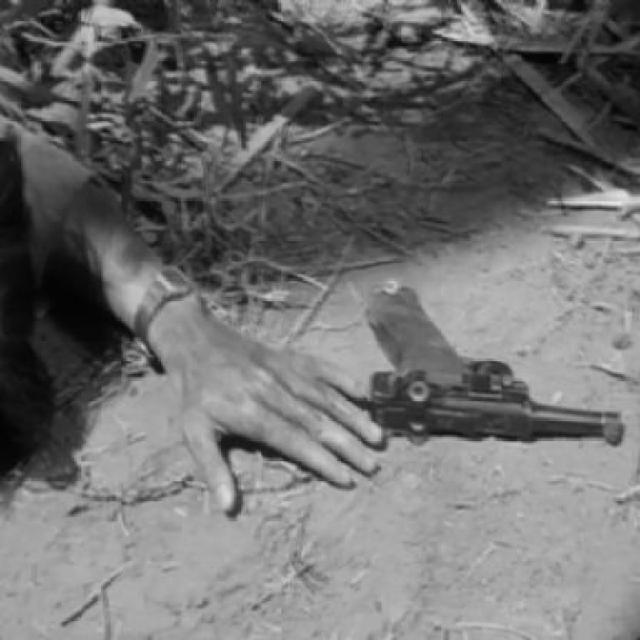gun: (344, 250, 640, 471)
